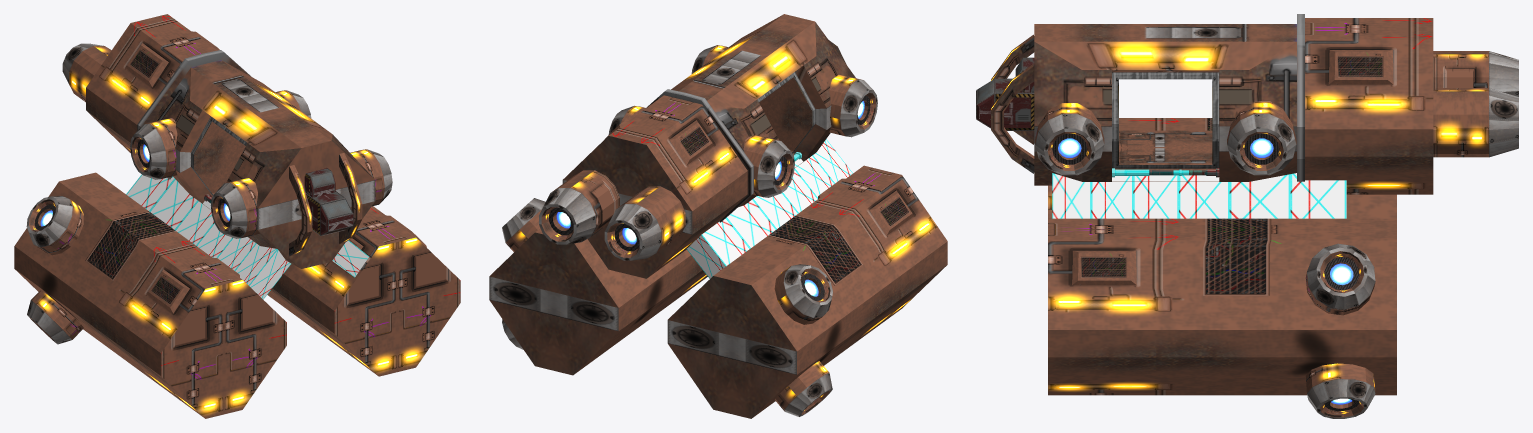
File: ScavangerHauler.fbx
The picture shows the model from 3 angles, left to right: view 1: azimuth 30°, elevation 25°; view 2: azimuth 150°, elevation 25°; view 3: azimuth 270°, elevation 25°; orthographic projection. The views are drawn at different scales.
Parts seen in each view (by area): view 1: ScavangerHauler_back, Cube, ScavangerHauler_front, scavangerhauler_winder; view 2: ScavangerHauler_back, Cube; view 3: ScavangerHauler_back, Cube, ScavangerHauler_front.
Part boxes in pixels (x1=…): ScavangerHauler_back: x1=14, y1=14, x2=460, y2=418; Cube: x1=126, y1=174, x2=369, y2=299; ScavangerHauler_front: x1=304, y1=168, x2=353, y2=235; scavangerhauler_winder: x1=311, y1=172, x2=352, y2=218; ScavangerHauler_back: x1=489, y1=14, x2=947, y2=418; Cube: x1=686, y1=139, x2=852, y2=278; ScavangerHauler_back: x1=991, y1=14, x2=1518, y2=418; Cube: x1=1052, y1=168, x2=1346, y2=218; ScavangerHauler_front: x1=976, y1=57, x2=1034, y2=130.
Size of the model in its own units: 104 by 84.27 by 130.
